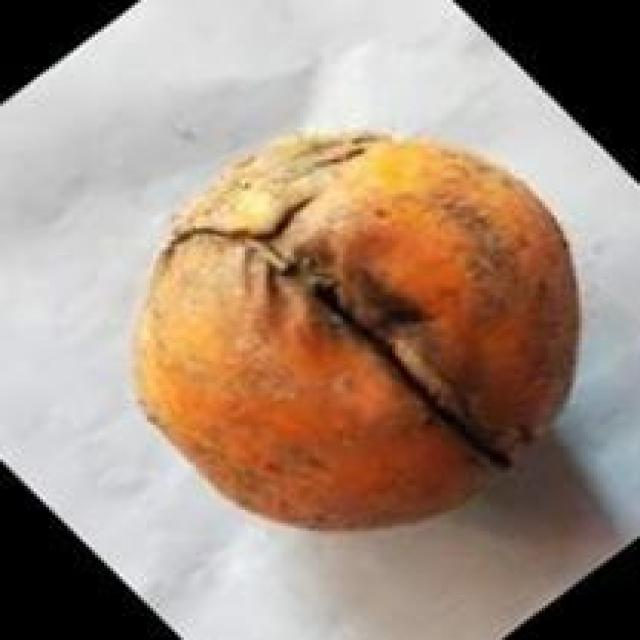damaged: (126, 130, 582, 534)
